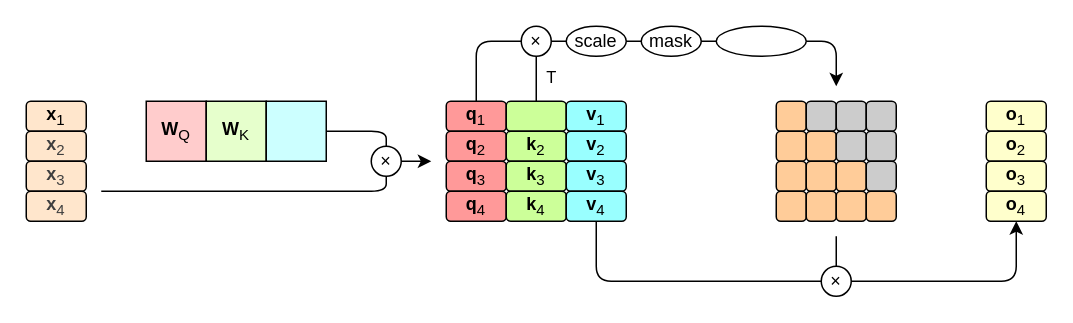
Image size: 1073x323. Some labels were removed from this diagram. The centre of each missing label's shape, as x and y in pixels:
k 1: pixel 535 115
softmax: pixel 760 40
W V: pixel 295 130
